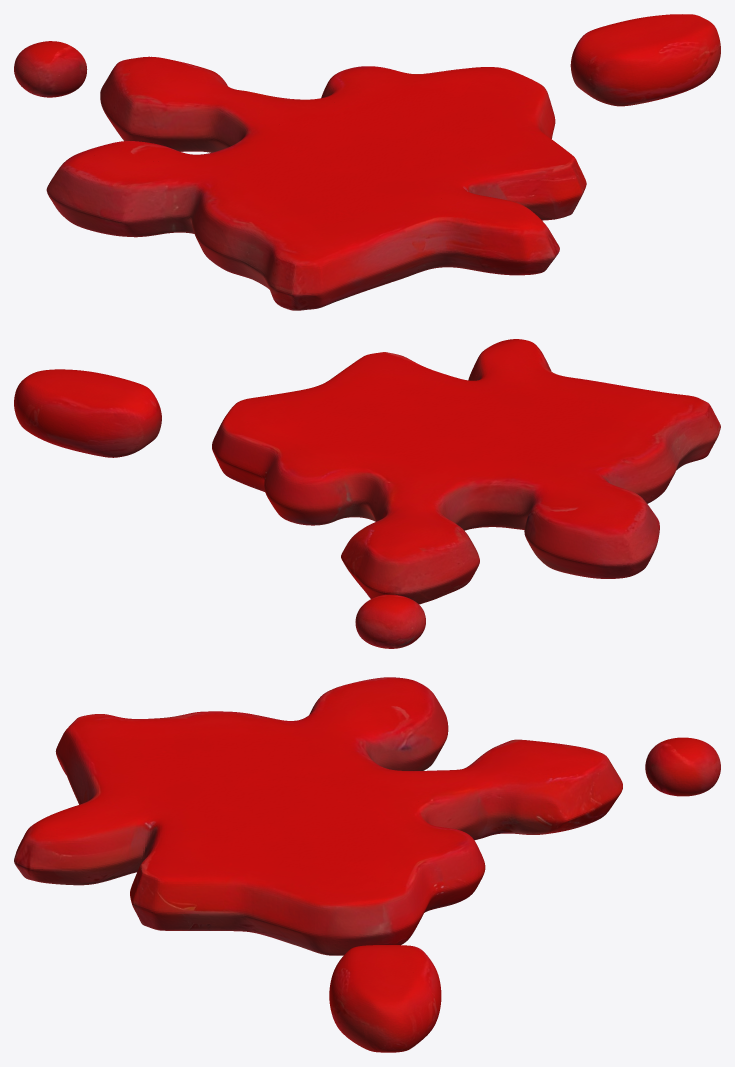
File: red+liquid+spill+3d+model.glb
The picture shows the model from 3 angles, top to bottom: view 1: azimuth 30°, elevation 25°; view 2: azimuth 150°, elevation 25°; view 3: azimuth 270°, elevation 25°; orthographic projection. The views are drawn at different scales.
Visible parts, largest first — view 1: tripo_node_519e8e2f-1dd7-4d93-9c24-ca19ee03a768; view 2: tripo_node_519e8e2f-1dd7-4d93-9c24-ca19ee03a768; view 3: tripo_node_519e8e2f-1dd7-4d93-9c24-ca19ee03a768.
Boxes of the visible parts, <box> form: tripo_node_519e8e2f-1dd7-4d93-9c24-ca19ee03a768: <box>14,14,720,310</box>; tripo_node_519e8e2f-1dd7-4d93-9c24-ca19ee03a768: <box>14,339,720,648</box>; tripo_node_519e8e2f-1dd7-4d93-9c24-ca19ee03a768: <box>14,677,720,1052</box>.
Bounding box in the file's own units: 1 × 0.084 × 0.8852.
Materials: 1 (1 with a texture image).
